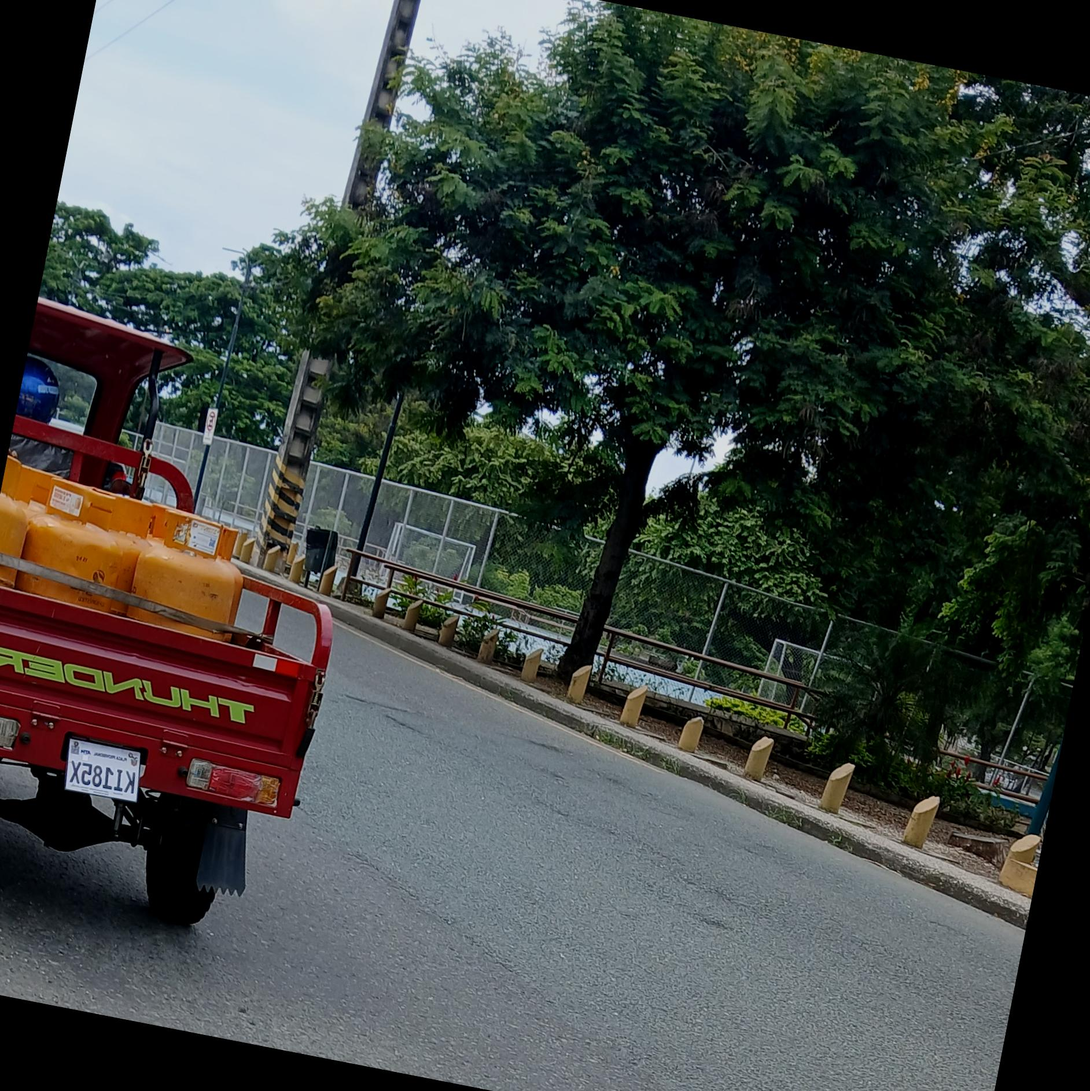license_plate: (58, 736, 148, 802)
